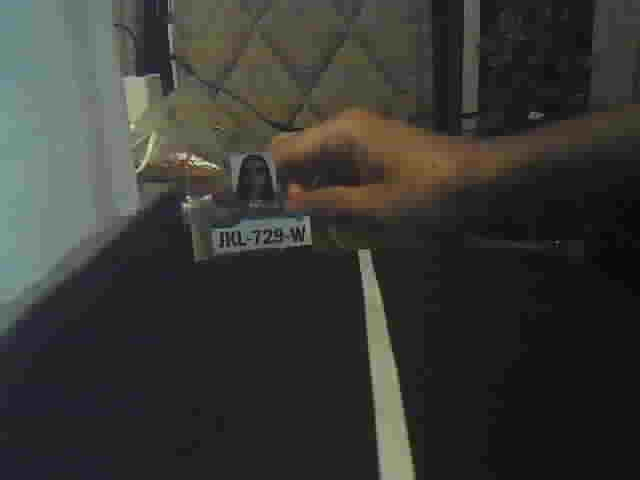PLACA: (207, 212, 314, 260)
ROSTRO: (233, 152, 276, 199)
